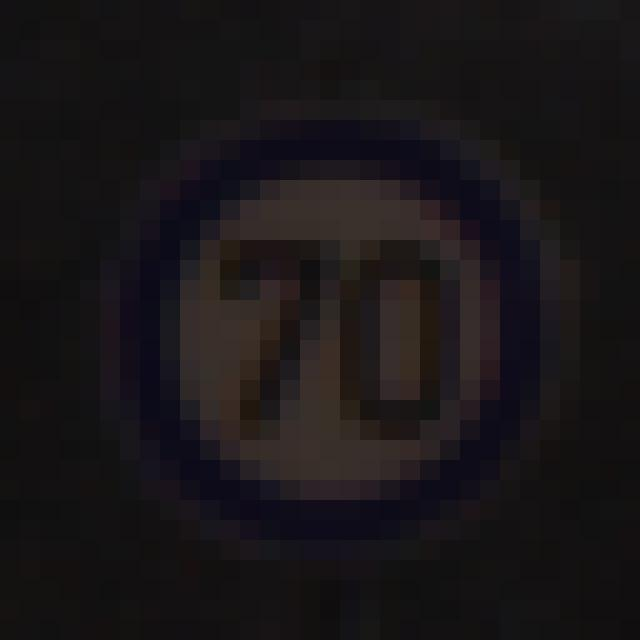SPEED LIMIT 70: (134, 133, 556, 523)
